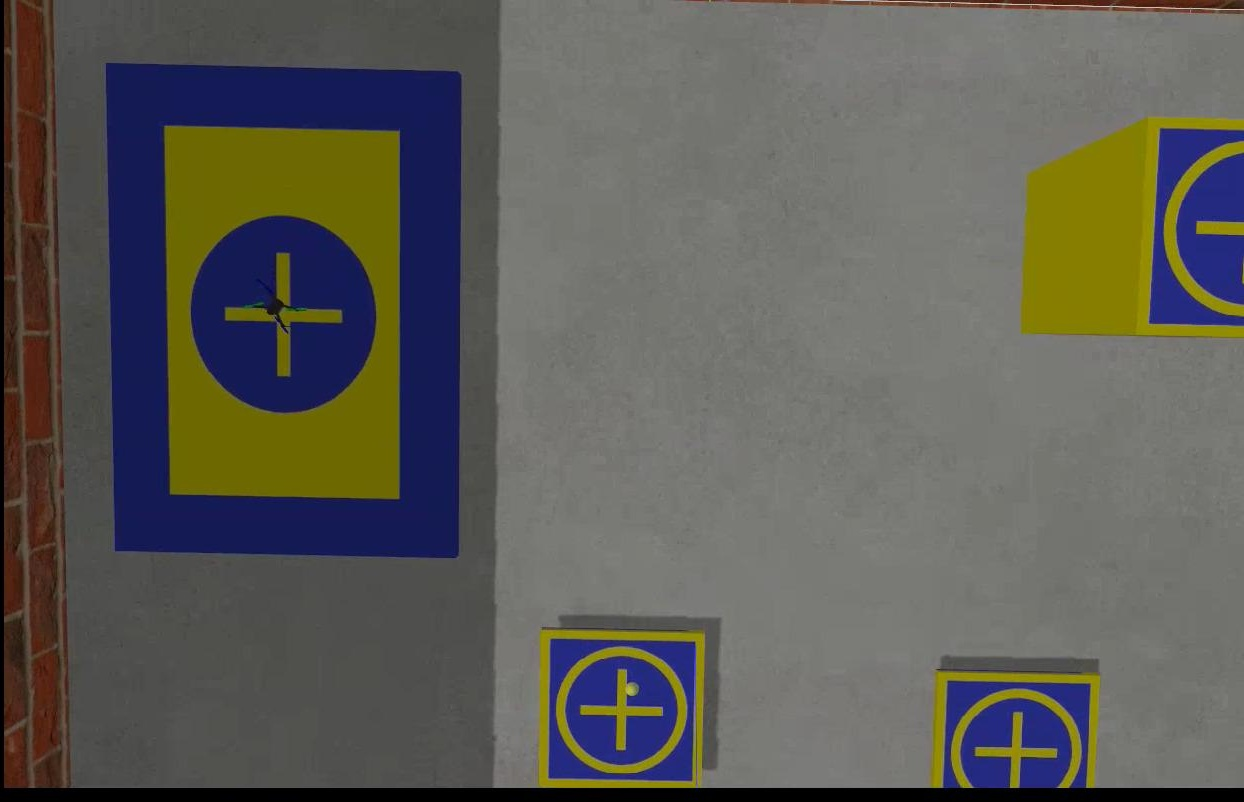large_base: (102, 60, 462, 558)
small_base: (537, 626, 708, 788), (1131, 116, 1242, 342), (931, 666, 1100, 788)
